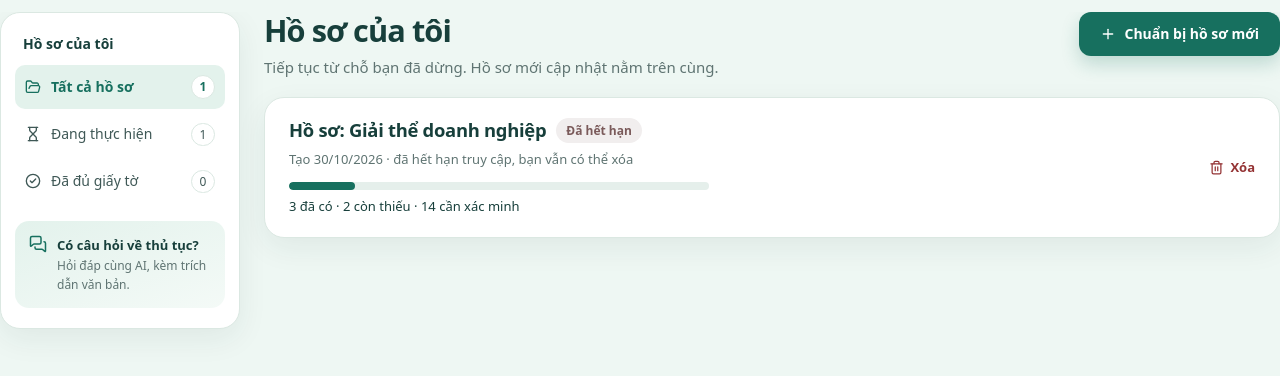
Test: Hồ sơ của tôi › hồ sơ hết hạn không mở được nhưng vẫn xóa được
expect the text "Tạo 30/10/2026 · đã hết hạn truy cập, bạn vẫn có thể xóa" is shown: met, box [289, 150, 633, 168]
Click the button "Xóa".
click(1232, 167)  # box [1209, 151, 1255, 184]
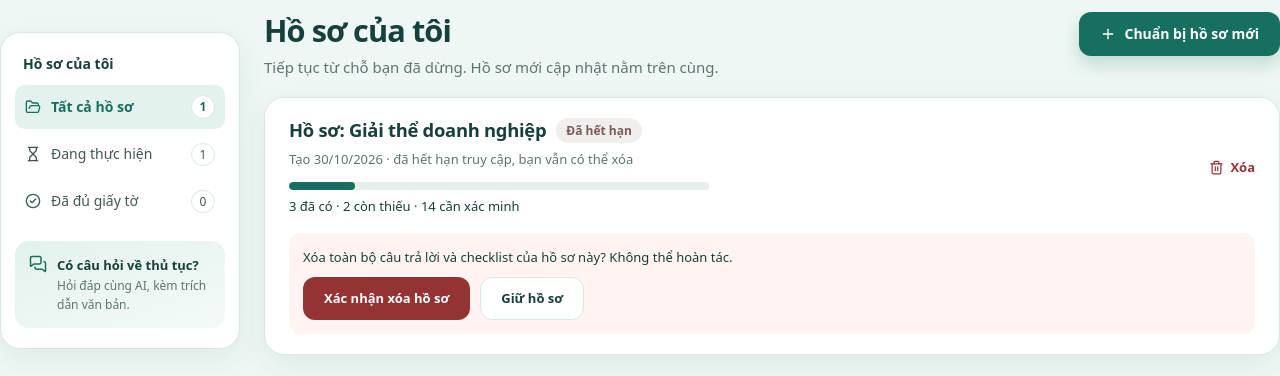
Click the button "Xác nhận xóa hồ sơ".
click(387, 299)  # box [303, 277, 470, 320]
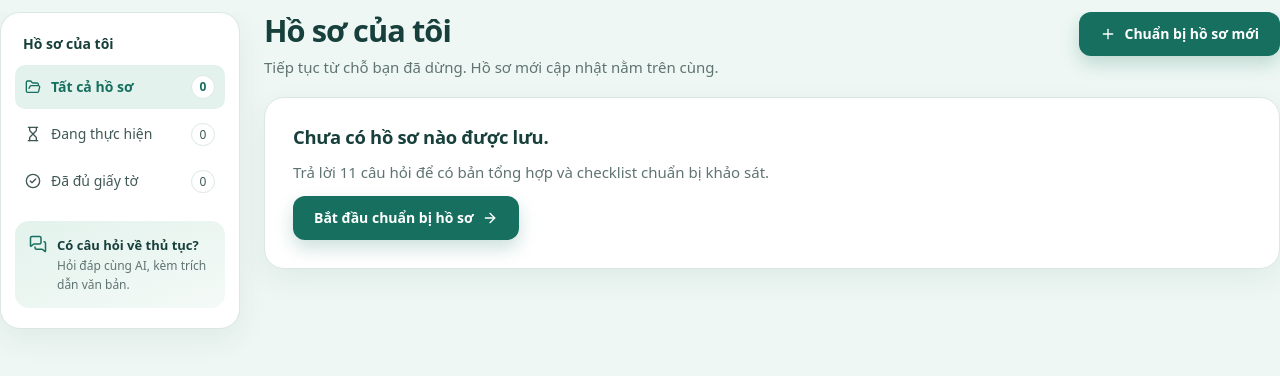
expect the heading "Chưa có hồ sơ nào được lưu." is shown: met, box [293, 126, 548, 148]
